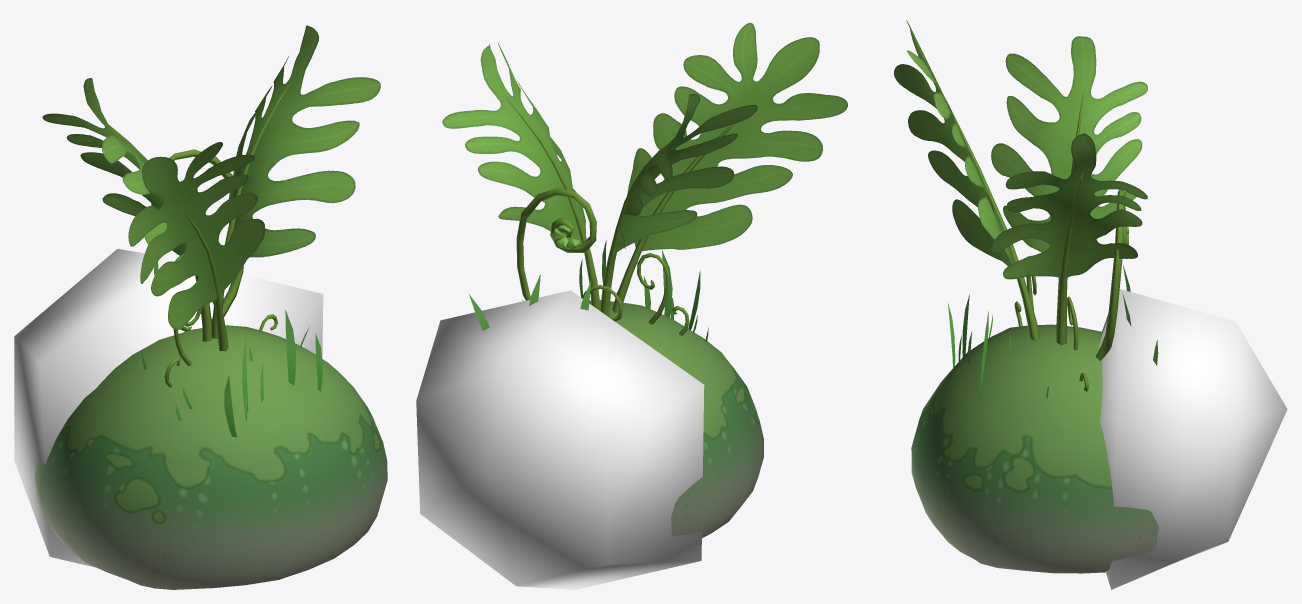
Rendered from Monster_Slime_Grass_01_Model.fbx.
The picture shows the model from 3 angles, left to right: view 1: azimuth 30°, elevation 25°; view 2: azimuth 150°, elevation 25°; view 3: azimuth 270°, elevation 25°; orthographic projection. The views are drawn at different scales.
Visible parts, largest first — view 1: Body, Grass, EffectMesh; view 2: EffectMesh, Grass, Body; view 3: Body, EffectMesh, Grass.
Part boxes in pixels (<box>): Body: <box>35,325,387,589</box>; Grass: <box>42,25,380,437</box>; EffectMesh: <box>14,249,323,567</box>; EffectMesh: <box>416,290,704,589</box>; Grass: <box>442,22,847,345</box>; Body: <box>589,300,763,537</box>; Body: <box>911,324,1158,573</box>; EffectMesh: <box>1099,289,1287,589</box>; Grass: <box>894,20,1158,400</box>.
Bounding box in the file's own units: 0.7599 × 1.22 × 0.8617.
